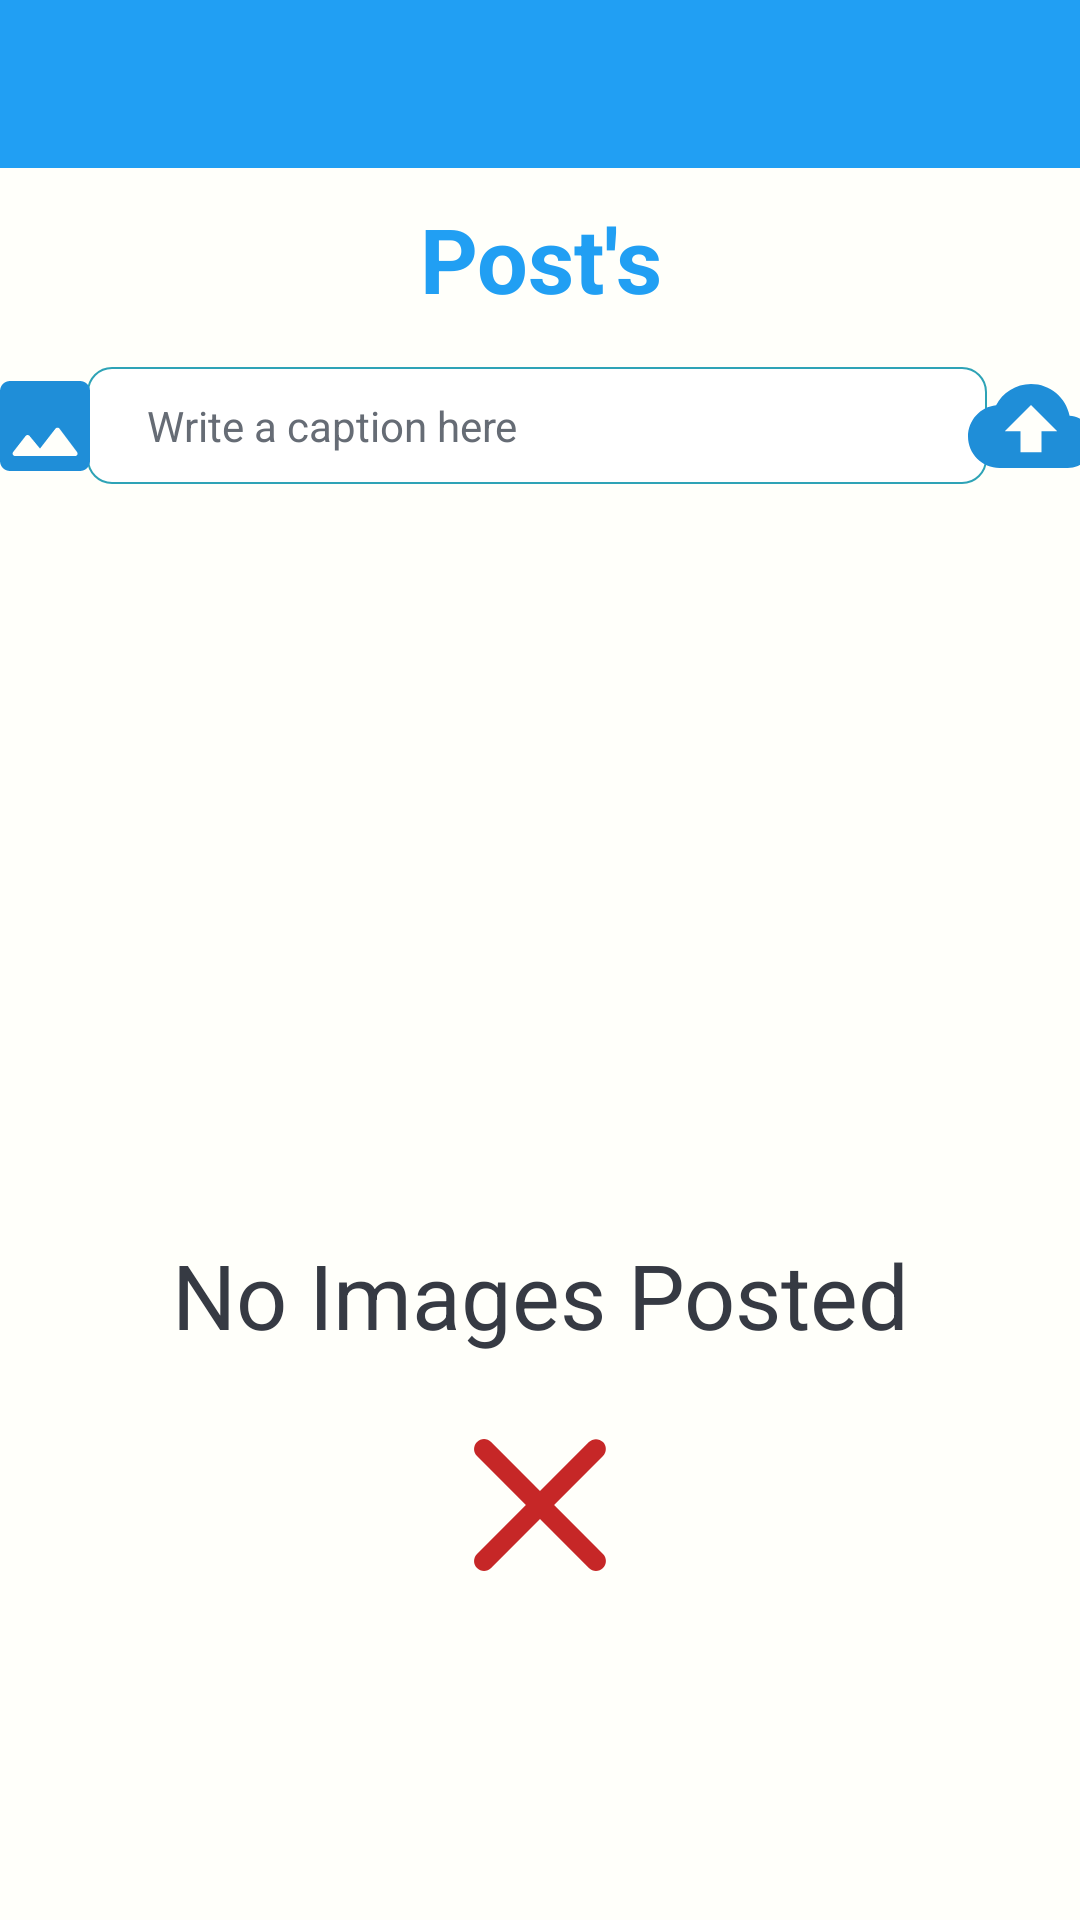

Icons on this 1080*1920 Android screen, each with its box as bbox=[x1, y1, x2, y2]:
clear: bbox=[474, 1439, 606, 1571]
